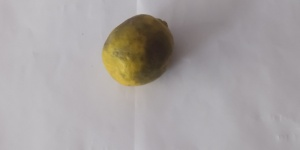BAD: (102, 15, 175, 88)
